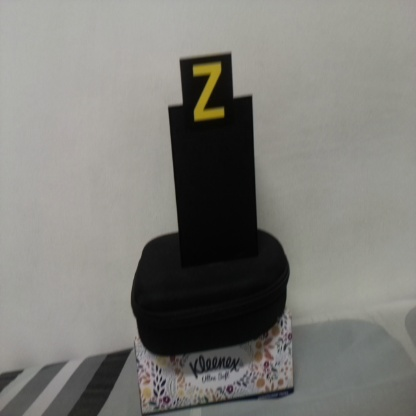id_15: (179, 59, 233, 124)
